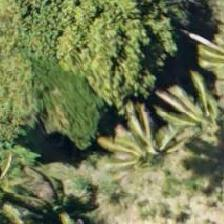coconut_tree: (99, 102, 189, 192), (167, 72, 223, 162)
